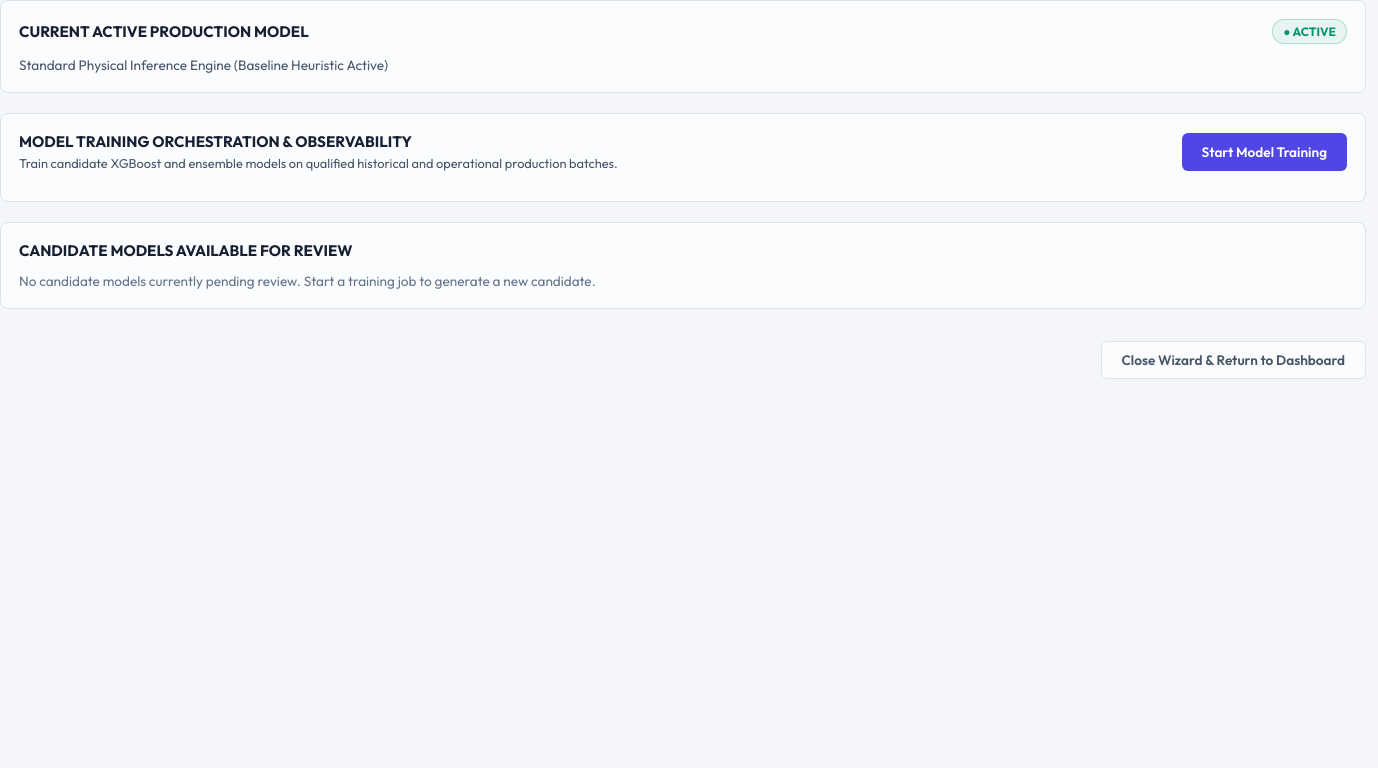
Step6ModelTraining Component — Phase 13F / ML-6 Frontend Verification › 2. Authorized Quality Head can see and trigger training action
Click the button "Start Model Training". click: (1264, 152)
box: [1182,132,1347,170]
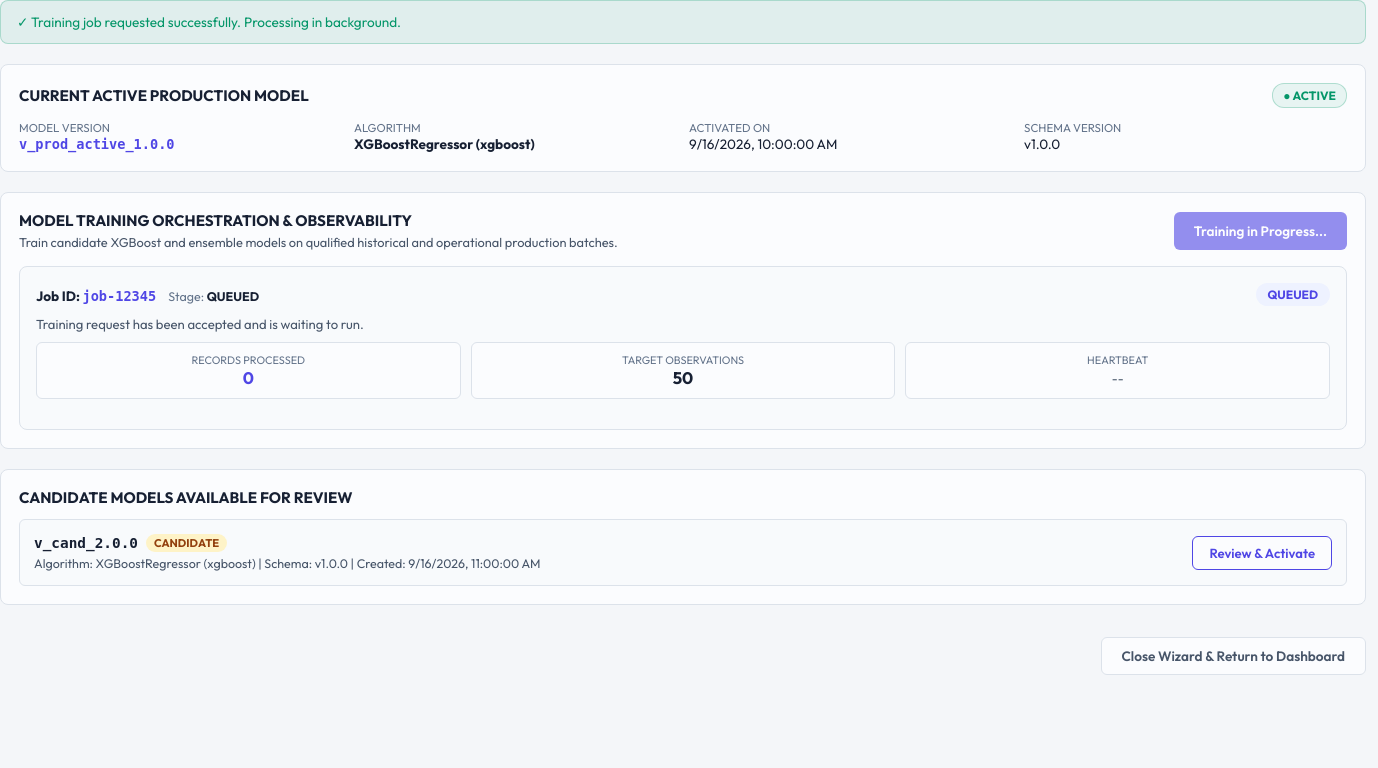
Check: the text "Training request has been accepted and is waiting to run." is shown, box [36,316,364,332]
